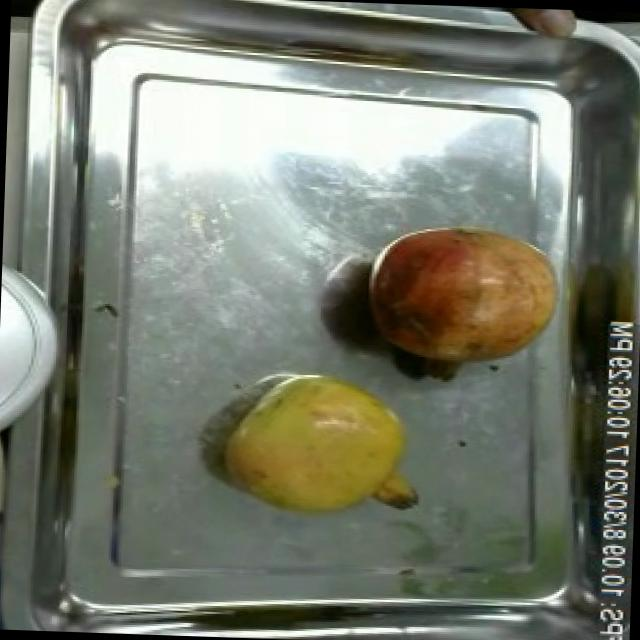fruit: (208, 360, 425, 530), (356, 217, 579, 379), (492, 6, 588, 41)
